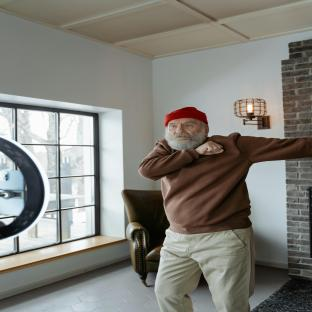Human: (138, 107, 312, 312)
